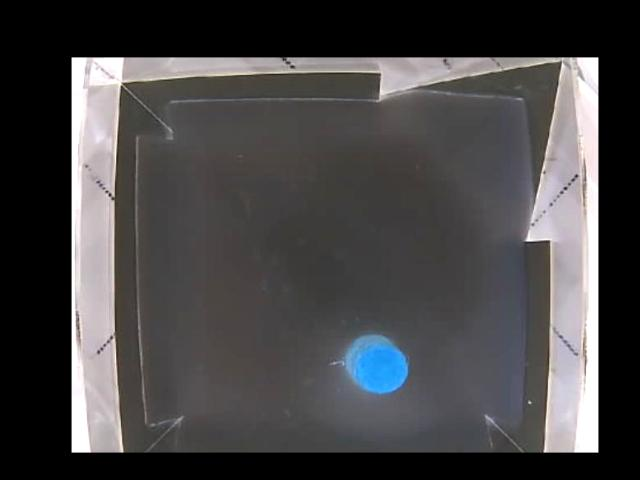Carrot: (346, 334, 406, 394)
